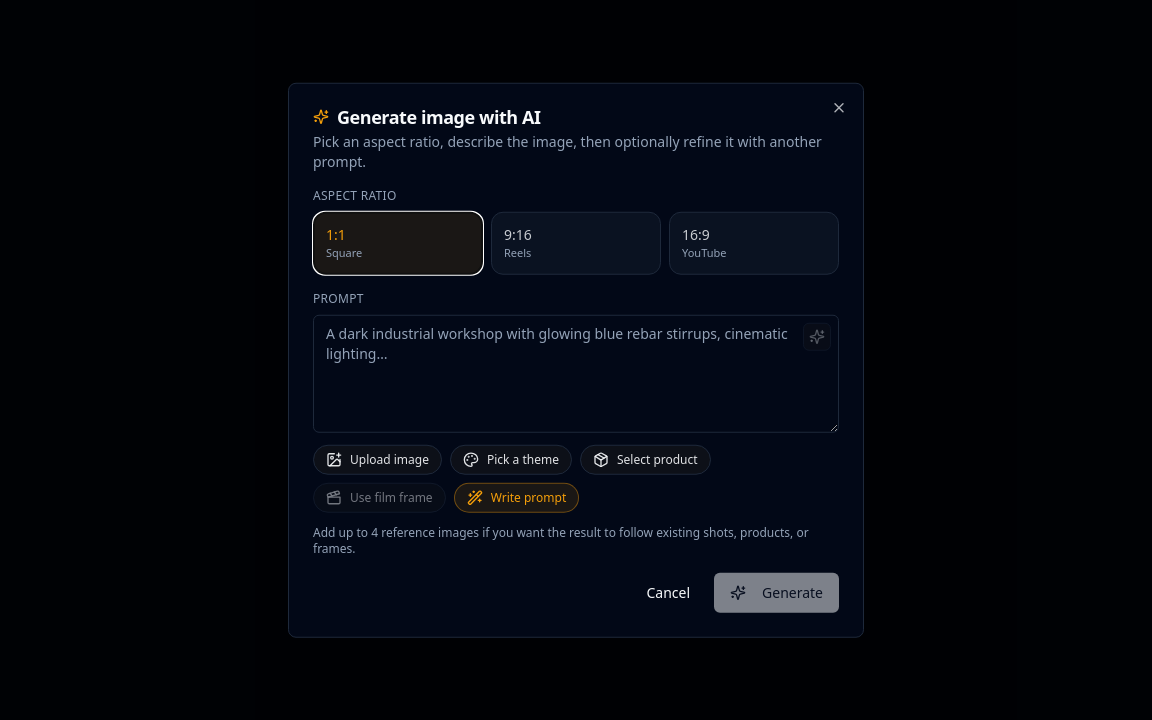
Test: AiImageDialog prompt optimization › replaces the prompt with the enhanced text on success and offers undo
Replace the text in the text box with placeholder "dark industrial workshop with glowing blue rebar stirrups" with "A rough idea" at (576, 373), box [313,314,839,432]
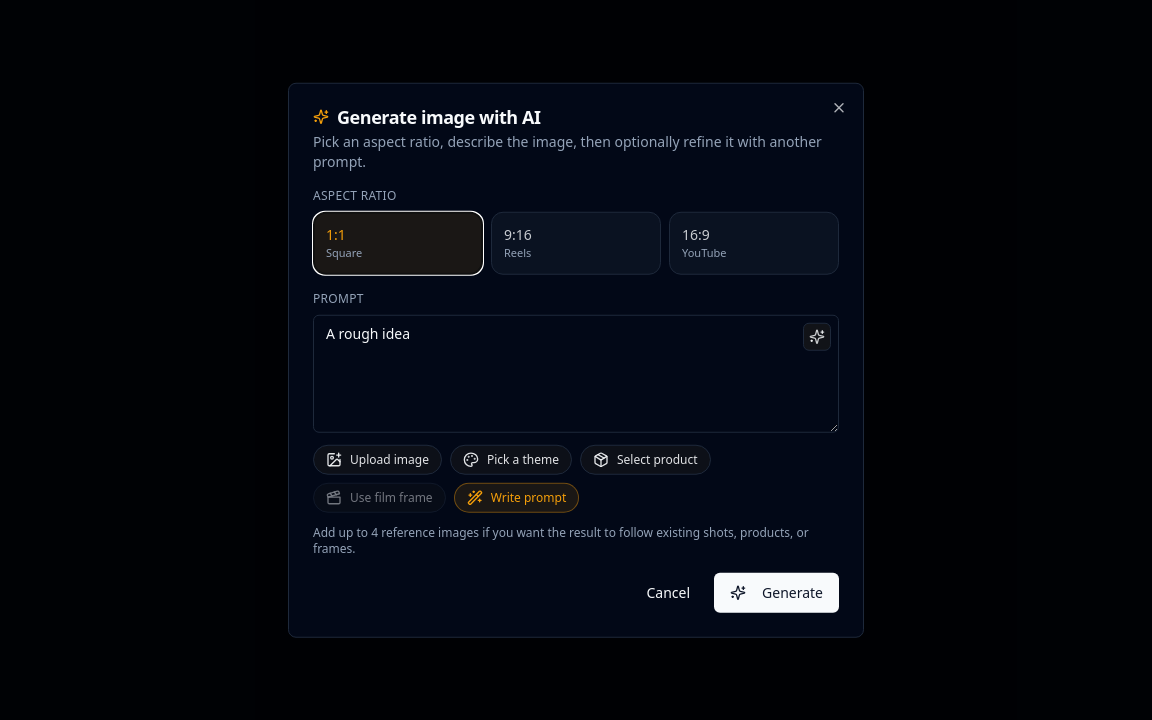
Click the button named "optimize prompt with ai" at (817, 336), box [803,322,831,350]
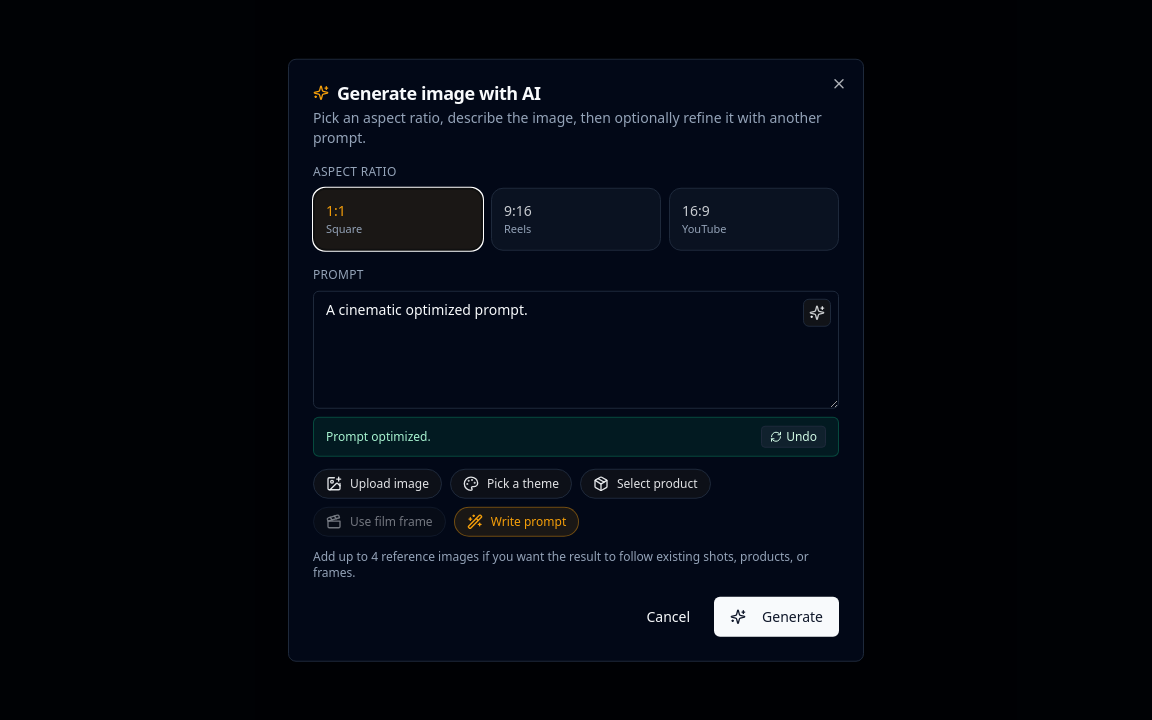
expect the text box with placeholder "dark industrial workshop with glowing blue rebar stirrups" holds "A cinematic optimized prompt.": met, box [313,290,839,408]
expect the text "Prompt optimized." is shown: met, box [326,428,431,444]
# Undo restores the original text.
Click the button "Undo" at (794, 436), box [761,425,826,447]
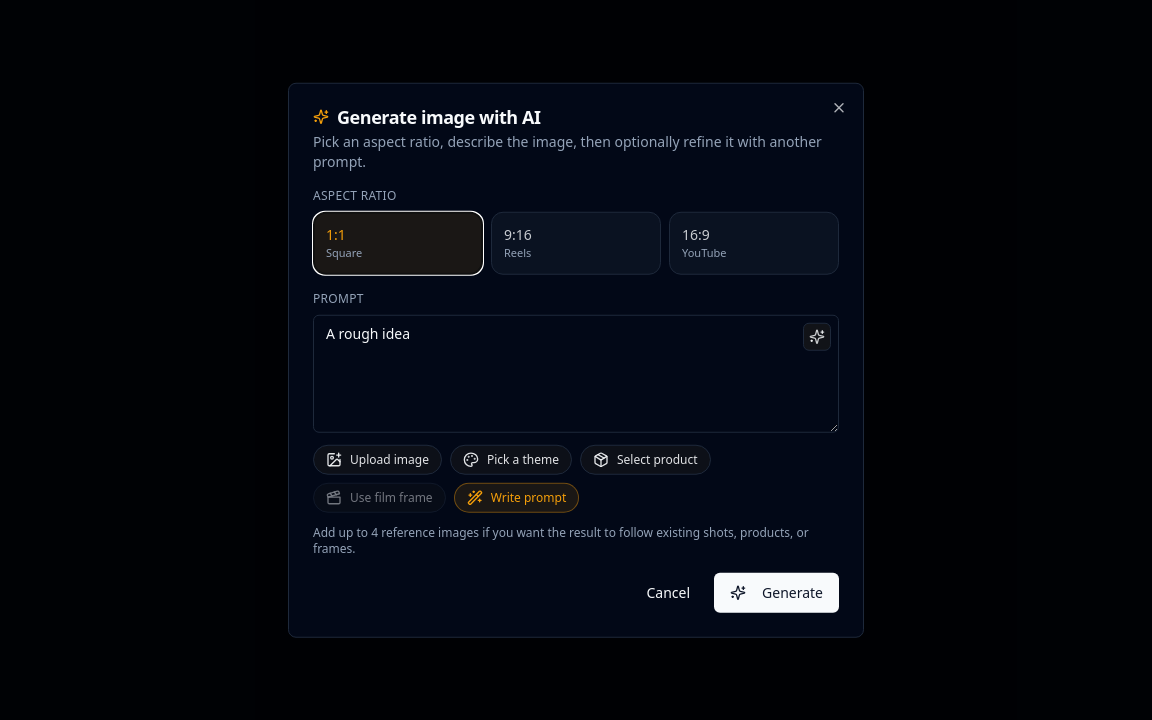
expect the text "Prompt optimized." is gone: met
